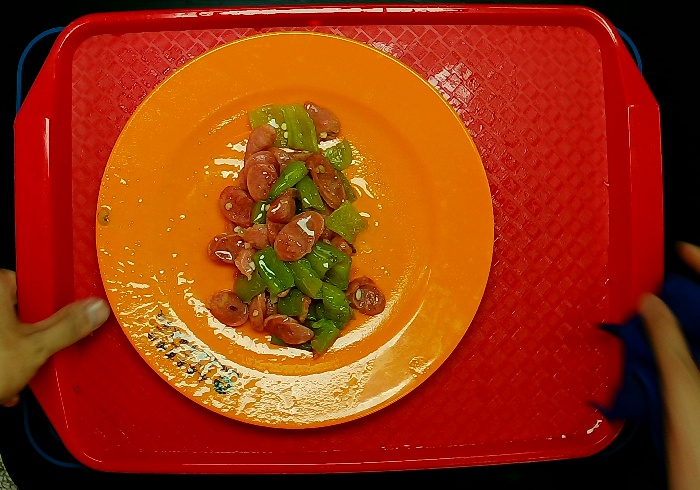YKMZ-Ju_Se_Mian_Pan: (93, 31, 494, 429)
